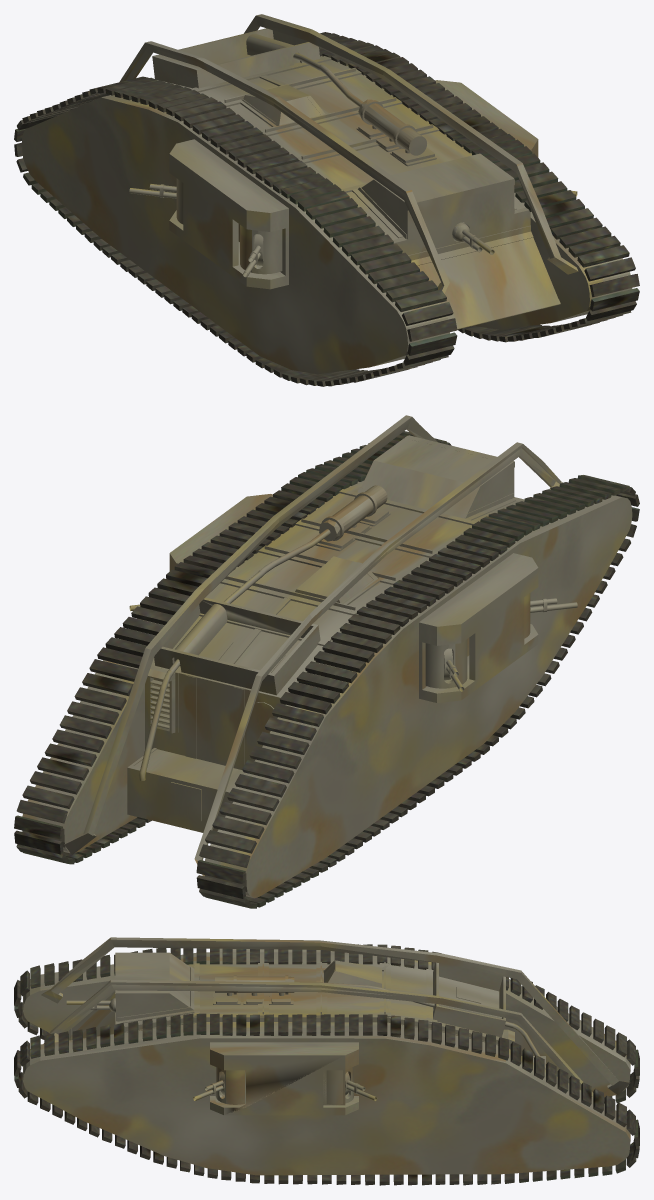
The picture shows the model from 3 angles, top to bottom: view 1: azimuth 30°, elevation 25°; view 2: azimuth 150°, elevation 25°; view 3: azimuth 270°, elevation 25°; orthographic projection. The views are drawn at different scales.
Parts seen in each view (by area): view 1: 3DSMeshMatrix (×9); view 2: 3DSMeshMatrix (×9); view 3: 3DSMeshMatrix (×8).
Part boxes in pixels (box(x1,y1,x2,y2)): 3DSMeshMatrix (×9): box(14, 14, 639, 386); 3DSMeshMatrix (×9): box(14, 415, 639, 908); 3DSMeshMatrix (×8): box(14, 937, 639, 1185).
Size of the model in its own units: 3771 by 2488 by 7760.
Materials: 2 (2 with a texture image).
